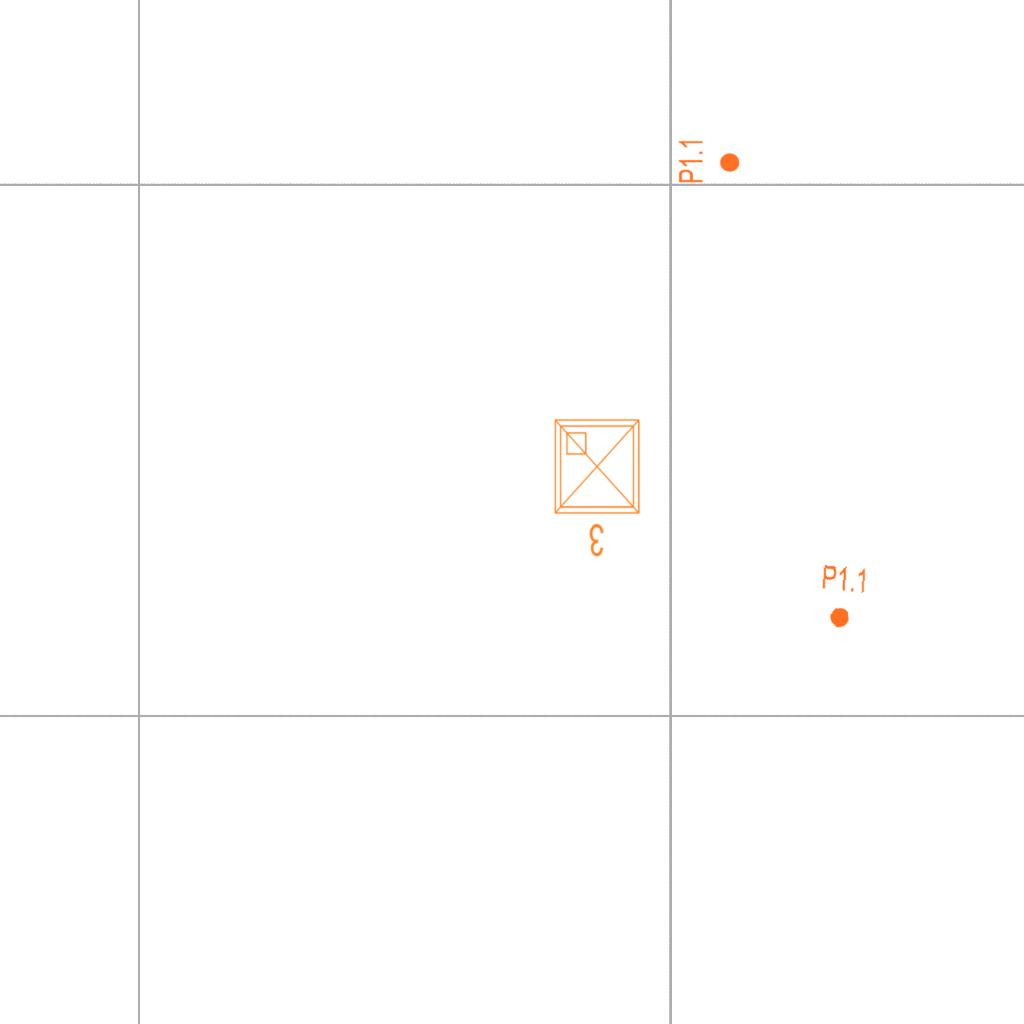Downlight_LED_Einbauleuchten_Flur: (817, 563, 869, 631), (677, 138, 741, 184)
Einbaudownlights_LED_Konferenzraeume: (547, 412, 651, 562)
